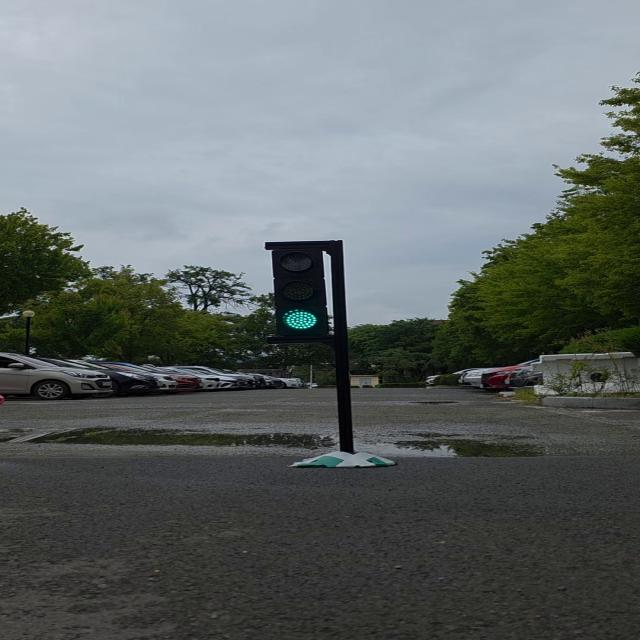green: (266, 240, 344, 340)
